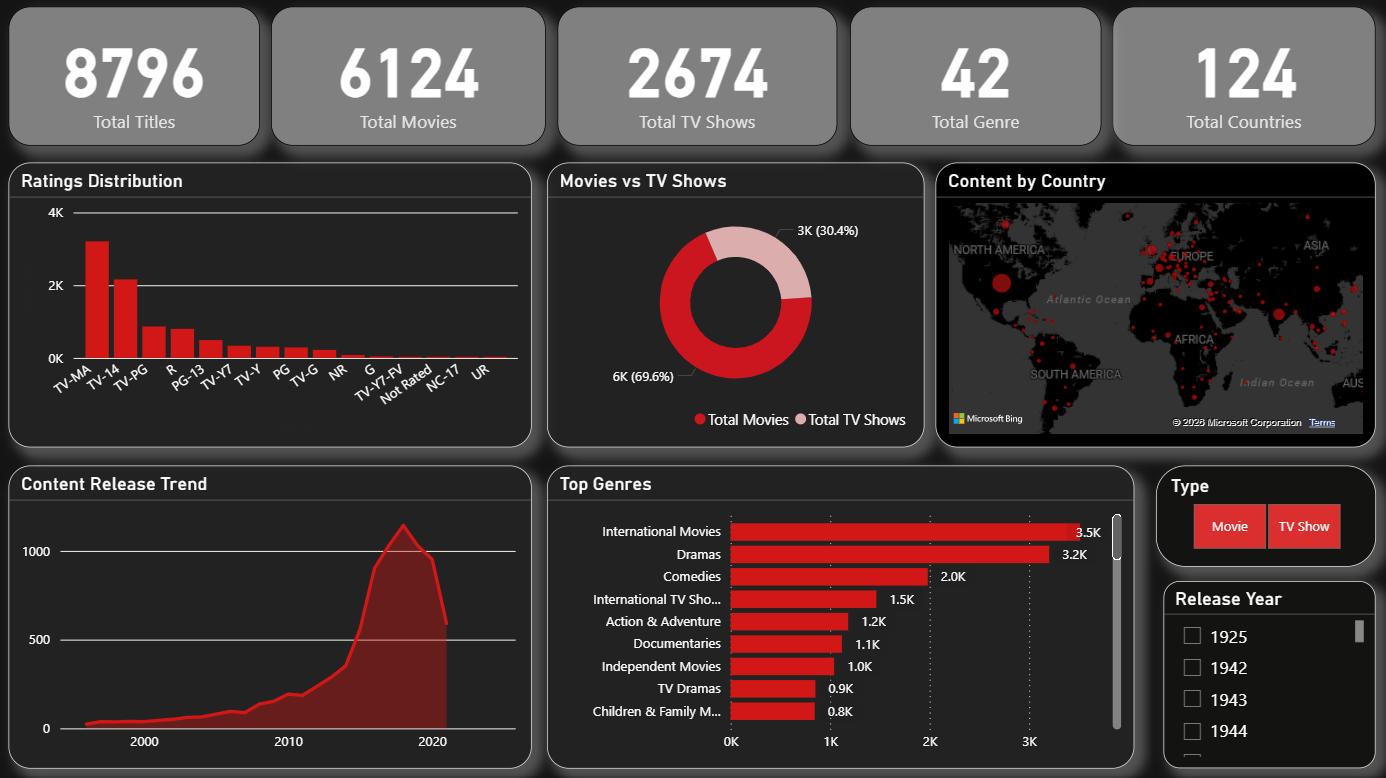

Layout of this report page (visuals, bound fields, positions):
{"tool":"powerbi","page":{"name":"Page 1","canvas":[1280,720],"ordinal":0},"visuals":[{"type":"donutChart","title":"Movies vs TV Shows","fields":{"Y":["nextflixdata.Total Movies","nextflixdata.Total TV Shows"]},"box":[507.2,154,345.2,260.4],"z":0,"group":"g1"},{"type":"card","fields":{"Values":["nextflixdata.Total Titles"]},"box":[15.1,11.7,230.2,127.2],"z":1000,"group":"g1"},{"type":"lineChart","title":"Content Release Trend","fields":{"Y":["nextflixdata.Total Titles"],"Category":["nextflixdata.Release_Year"]},"box":[15.1,431.1,478.5,277.1],"z":2000,"group":"g1"},{"type":"barChart","title":"Top Genres ","fields":{"Category":["nextflixdata.Genre"],"Y":["nextflixdata.Genre Count"]},"box":[507.2,431.1,537.5,277.1],"z":3000,"group":"g1"},{"type":"clusteredColumnChart","title":"Ratings Distribution","fields":{"Category":["nextflixdata.Rating"],"Y":["nextflixdata.Total Titles"]},"box":[15.1,154,478.5,260.4],"z":4000,"group":"g1"},{"type":"map","title":"Content by Country","fields":{"Category":["nextflixdata.Country"],"Size":["nextflixdata.Total Titles"]},"box":[863.1,154,402.8,260.4],"z":5000,"group":"g1"},{"type":"card","fields":{"Values":["nextflixdata.Total Movies"]},"box":[255.9,11.7,251.4,127.2],"z":6000,"group":"g1"},{"type":"card","fields":{"Values":["nextflixdata.Total TV Shows"]},"box":[517.8,11.7,255.9,127.2],"z":7000,"group":"g1"},{"type":"card","fields":{"Values":["nextflixdata.Total Countries"]},"box":[1025.1,11.7,240.8,127.2],"z":8000,"group":"g1"},{"type":"card","fields":{"Values":["nextflixdata.Total Genre"]},"box":[784.3,11.7,230.2,127.2],"z":9000,"group":"g1"},{"type":"slicer","title":"Type","fields":{"Values":["nextflixdata.Type"]},"box":[1064.4,431.1,201.4,92.4],"z":10000,"group":"g1"},{"type":"slicer","title":"Release Year","fields":{"Values":["nextflixdata.Release_Year"]},"box":[1072,537.1,193.8,171.1],"z":11000,"group":"g1"},{"type":"group","id":"g1","title":"Group 1","box":[15.1,11.7,1250.7,696.5],"z":11001}]}

Visuals, with their boxes in screenshot pixels (x1, y1, x2, y2), scaled from the page's 1280x720 canvas onto the 1386x778 screenshot:
"Movies vs TV Shows" donutChart: pyautogui.locateOnScreen(549, 166, 923, 448)
card - nextflixdata.Total Titles: pyautogui.locateOnScreen(16, 13, 266, 150)
"Content Release Trend" lineChart: pyautogui.locateOnScreen(16, 466, 534, 765)
"Top Genres " barChart: pyautogui.locateOnScreen(549, 466, 1131, 765)
"Ratings Distribution" clusteredColumnChart: pyautogui.locateOnScreen(16, 166, 534, 448)
"Content by Country" map: pyautogui.locateOnScreen(935, 166, 1371, 448)
card - nextflixdata.Total Movies: pyautogui.locateOnScreen(277, 13, 549, 150)
card - nextflixdata.Total TV Shows: pyautogui.locateOnScreen(561, 13, 838, 150)
card - nextflixdata.Total Countries: pyautogui.locateOnScreen(1110, 13, 1371, 150)
card - nextflixdata.Total Genre: pyautogui.locateOnScreen(849, 13, 1099, 150)
"Type" slicer: pyautogui.locateOnScreen(1153, 466, 1371, 566)
"Release Year" slicer: pyautogui.locateOnScreen(1161, 580, 1371, 765)
"Group 1" group: pyautogui.locateOnScreen(16, 13, 1371, 765)
